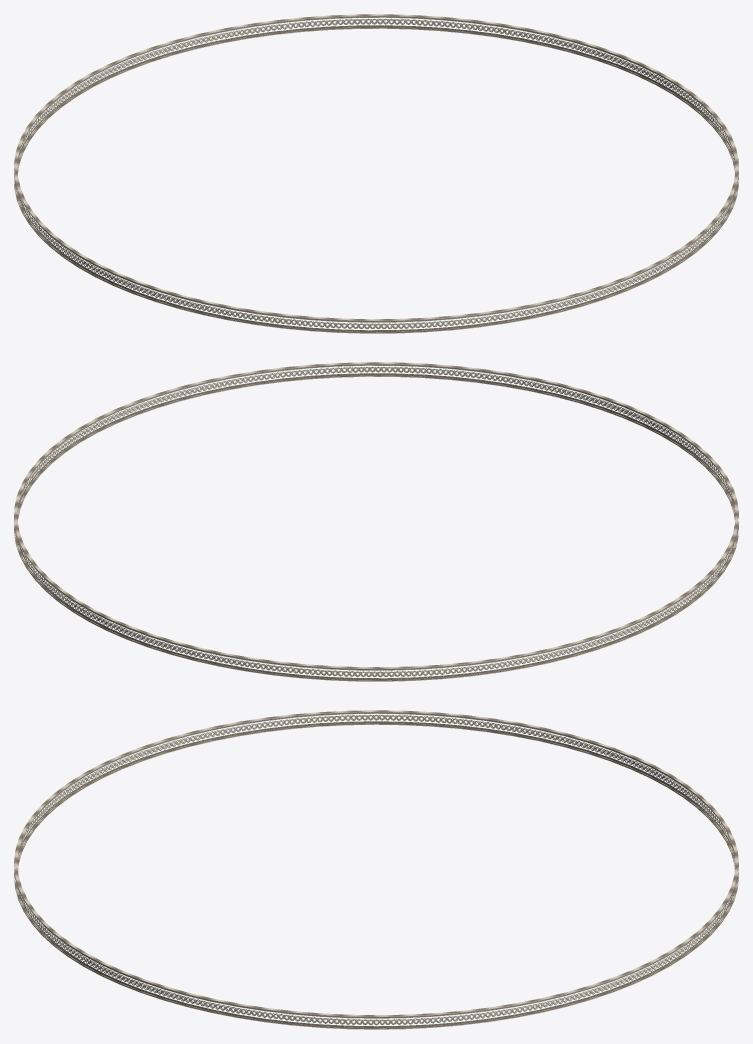
Rendered from ring_8.obj.
The picture shows the model from 3 angles, top to bottom: view 1: azimuth 30°, elevation 25°; view 2: azimuth 150°, elevation 25°; view 3: azimuth 270°, elevation 25°; orthographic projection.
Size of the model in its own units: 57.58 by 1.14 by 57.58.
